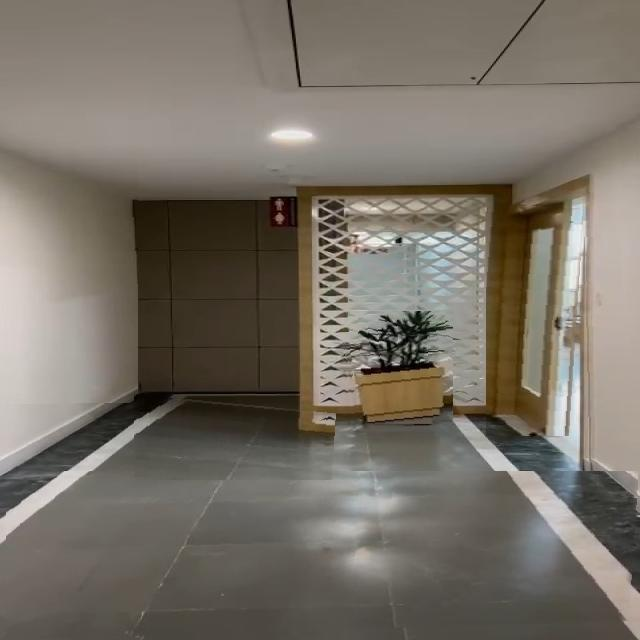door: (486, 204, 584, 436)
floor: (6, 471, 640, 640), (134, 394, 336, 480)
furniture: (342, 311, 453, 431)
wall: (0, 133, 138, 404), (582, 124, 640, 515)
